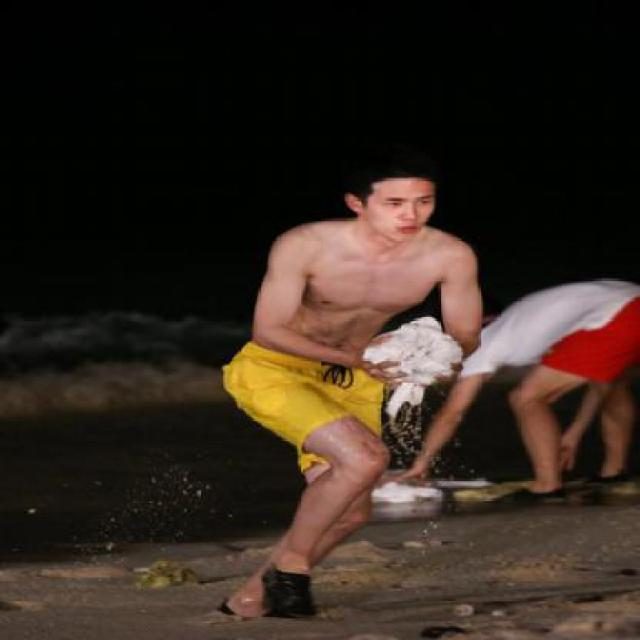Person: (214, 149, 495, 640)
